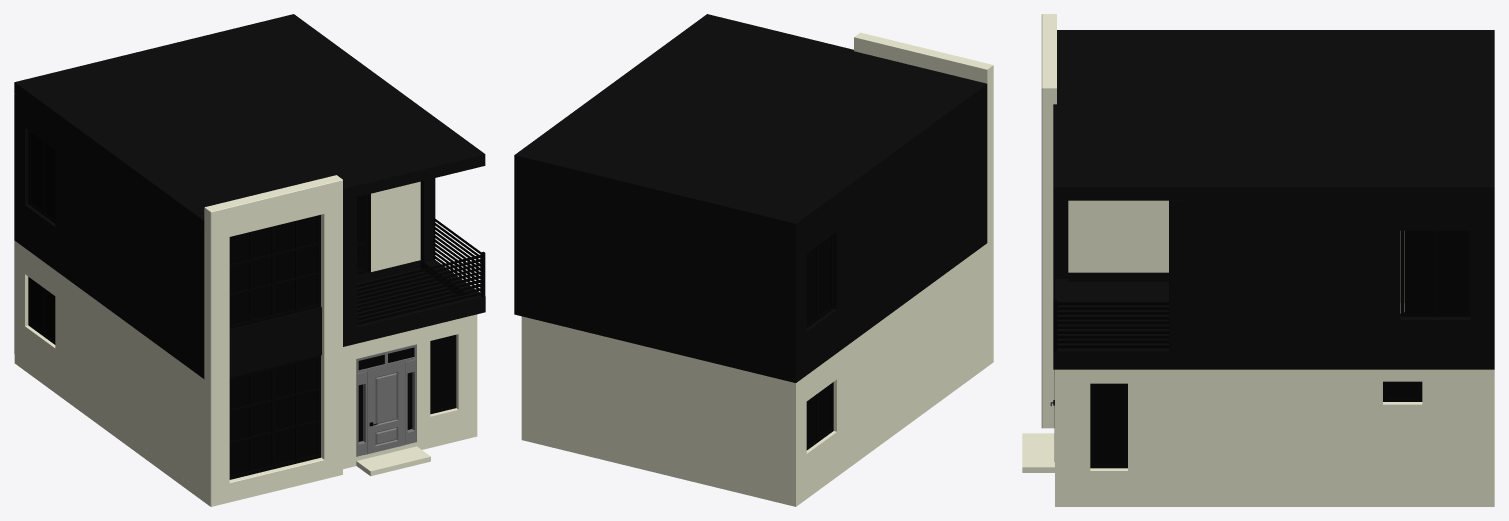
File: uploads_files_3722104_house+fbx.FBX
The picture shows the model from 3 angles, left to right: view 1: azimuth 30°, elevation 25°; view 2: azimuth 150°, elevation 25°; view 3: azimuth 270°, elevation 25°; orthographic projection. The views are drawn at different scales.
Parts seen in each view (by area): view 1: Line001, Box189, Line035, Box001, Box190, Box014, Box005, Box013, Box004, Object003, Box161, Box182 (+21 smaller); view 2: Box130, Box129, Box189, Line001, Line035, Box190, Box014, Box001, Line011, Line038, Box054, Box200 (+3 smaller); view 3: Box054, Line038, Box189, Box190, Box014, Box013, Object002, Box001, Line011, Object004, Box202, Box201 (+6 smaller).
Part boxes in pixels (bbox=[...]): Line001: bbox=[14, 94, 204, 378]; Box189: bbox=[14, 50, 321, 232]; Line035: bbox=[14, 240, 204, 492]; Box001: bbox=[204, 175, 342, 506]; Box190: bbox=[147, 14, 425, 146]; Box014: bbox=[279, 111, 485, 200]; Box005: bbox=[343, 314, 477, 469]; Box013: bbox=[343, 260, 485, 346]; Box004: bbox=[229, 307, 321, 377]; Object003: bbox=[371, 181, 420, 271]; Box161: bbox=[367, 362, 405, 453]; Box182: bbox=[229, 355, 320, 479]; Box130: bbox=[525, 170, 784, 380]; Box129: bbox=[533, 319, 784, 494]; Box189: bbox=[662, 51, 987, 235]; Line001: bbox=[784, 96, 987, 382]; Line035: bbox=[784, 243, 987, 497]; Box190: bbox=[514, 57, 795, 202]; Box014: bbox=[648, 14, 853, 93]; Box001: bbox=[854, 32, 993, 366]; Line011: bbox=[521, 358, 987, 506]; Line038: bbox=[514, 167, 525, 316]; Box054: bbox=[521, 316, 533, 433]; Box200: bbox=[819, 236, 831, 315]; Box054: bbox=[1068, 369, 1494, 496]; Line038: bbox=[1189, 200, 1494, 369]; Box189: bbox=[1057, 30, 1494, 104]; Box190: bbox=[1189, 104, 1494, 200]; Box014: bbox=[1053, 104, 1189, 200]; Box013: bbox=[1053, 272, 1189, 369]; Object002: bbox=[1068, 200, 1168, 272]; Box001: bbox=[1041, 14, 1056, 428]; Line011: bbox=[1068, 496, 1494, 506]; Object004: bbox=[1169, 200, 1189, 351]; Box202: bbox=[1404, 230, 1432, 313]; Box201: bbox=[1438, 230, 1466, 313].
Bounding box in the file's own units: 370 × 373 × 469.
